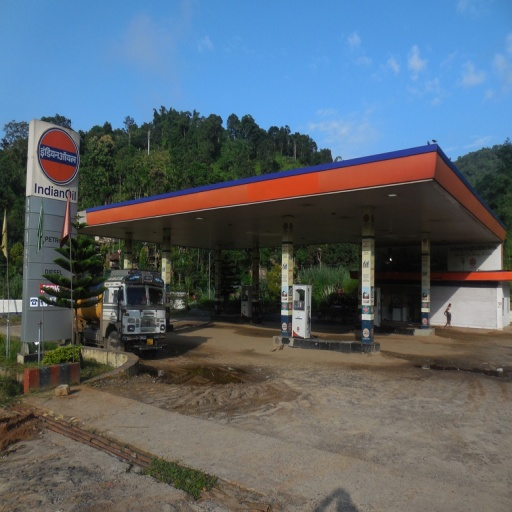roof: (75, 140, 508, 267)
